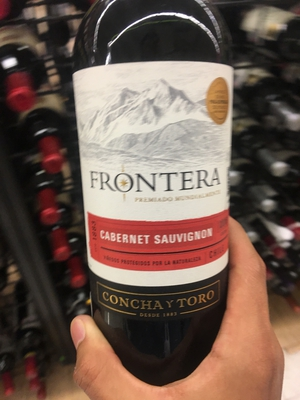frontera cabernet sauvignon: (61, 9, 250, 340)
